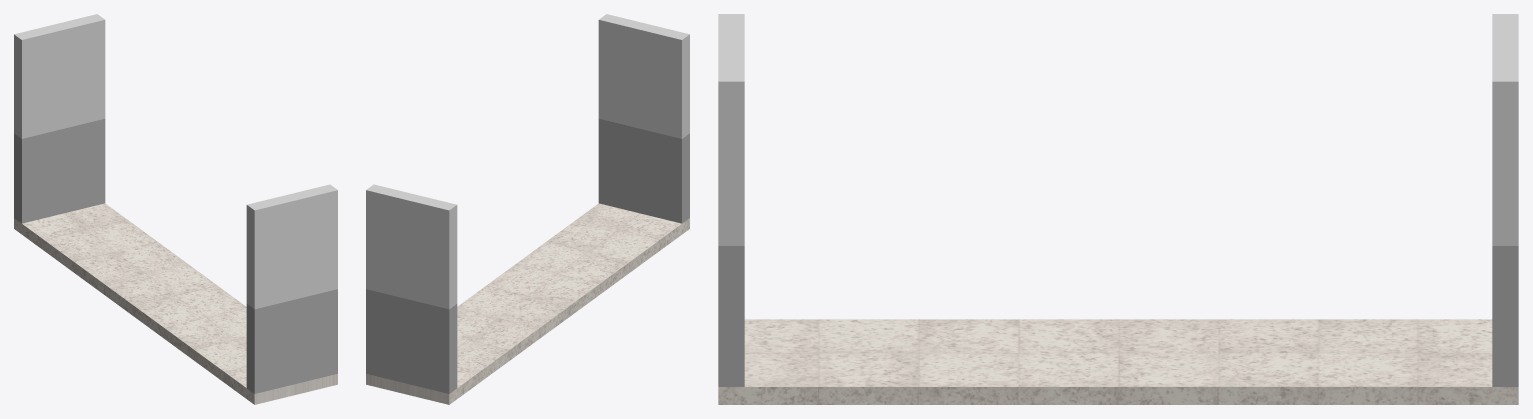
File: fbx_school_floor1.fbx
3 renders of one model, left to right at view 1: azimuth 30°, elevation 25°; view 2: azimuth 150°, elevation 25°; view 3: azimuth 270°, elevation 25°, orthographic. The views are drawn at different scales.
Parts seen in each view (by area): view 1: fbx_school_floor1; view 2: fbx_school_floor1; view 3: fbx_school_floor1.
Boxes of the visible parts, x1,y1,x2,y2 form: fbx_school_floor1: (14, 14, 337, 404); fbx_school_floor1: (366, 14, 689, 404); fbx_school_floor1: (718, 14, 1518, 404).
Size of the model in its own units: 2 by 4.46 by 10.
1 material, 1 textured.
